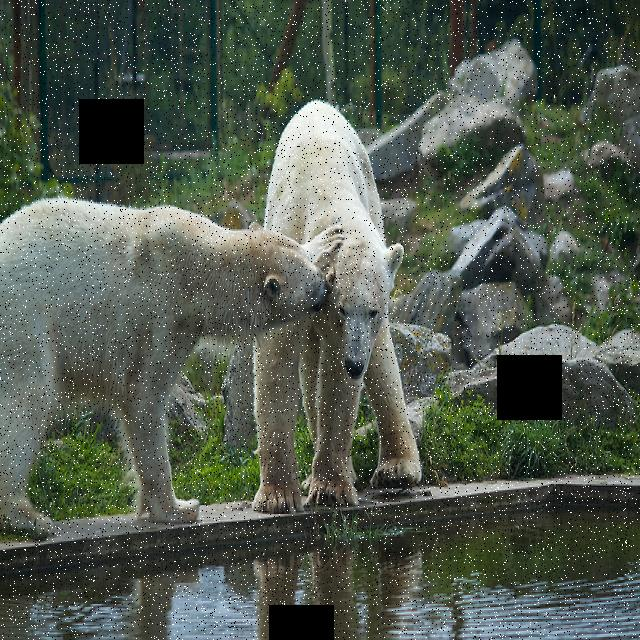Bear: (0, 186, 324, 530), (241, 80, 430, 510)
